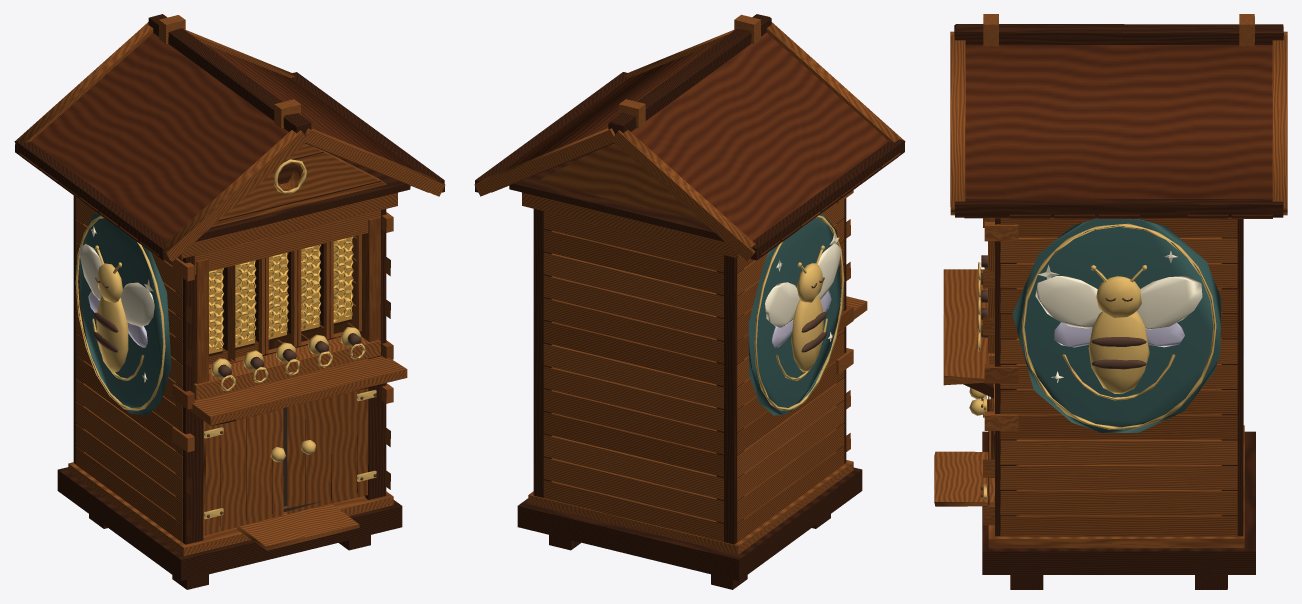
File: beehive-dreamy-far.glb
The picture shows the model from 3 angles, left to right: view 1: azimuth 30°, elevation 25°; view 2: azimuth 150°, elevation 25°; view 3: azimuth 270°, elevation 25°; orthographic projection. The views are drawn at different scales.
Visible parts, largest first — view 1: Hive_Cedro miele 3.001, Hive_Cedro tostato • scandole, Hive_Noce • bordi e incastri.001, Hive_Cedro miele 4.001, Hive_Cedro miele 2.001, Hive_Cedro miele 1.001, Hive_Smalto salvia profondo, Hive_Ottone satinato / miele, Hive_Miele luminoso, Hive_Cera ambrata, Hive_Ali • avorio perlato, Hive_Ape • cacao (+1 smaller); view 2: Hive_Cedro miele 3.001, Hive_Cedro tostato • scandole, Hive_Noce • bordi e incastri.001, Hive_Cedro miele 2.001, Hive_Cedro miele 4.001, Hive_Cedro miele 1.001, Hive_Smalto salvia profondo, Hive_Ottone satinato / miele, Hive_Ali • avorio perlato; view 3: Hive_Cedro tostato • scandole, Hive_Noce • bordi e incastri.001, Hive_Cedro miele 3.001, Hive_Smalto salvia profondo, Hive_Cedro miele 4.001, Hive_Cedro miele 1.001, Hive_Cedro miele 2.001, Hive_Ottone satinato / miele, Hive_Ali • avorio perlato, Hive_Ali • madreperla lavanda, Hive_Ape • cacao.
Boxes of the visible parts, <box> form: Hive_Cedro miele 3.001: <box>14,22,445,556</box>; Hive_Cedro tostato • scandole: <box>19,33,428,243</box>; Hive_Noce • bordi e incastri.001: <box>15,14,444,589</box>; Hive_Cedro miele 4.001: <box>75,15,393,550</box>; Hive_Cedro miele 2.001: <box>75,192,397,538</box>; Hive_Cedro miele 1.001: <box>59,182,393,542</box>; Hive_Smalto salvia profondo: <box>79,212,171,415</box>; Hive_Ottone satinato / miele: <box>75,159,376,519</box>; Hive_Miele luminoso: <box>209,236,353,350</box>; Hive_Cera ambrata: <box>209,237,352,353</box>; Hive_Ali • avorio perlato: <box>79,226,154,382</box>; Hive_Ape • cacao: <box>93,277,376,517</box>; Hive_Cedro miele 3.001: <box>474,22,905,554</box>; Hive_Cedro tostato • scandole: <box>491,32,888,256</box>; Hive_Noce • bordi e incastri.001: <box>475,14,904,589</box>; Hive_Cedro miele 2.001: <box>522,192,850,541</box>; Hive_Cedro miele 4.001: <box>543,14,853,499</box>; Hive_Cedro miele 1.001: <box>543,153,900,542</box>; Hive_Smalto salvia profondo: <box>748,213,841,415</box>; Hive_Ottone satinato / miele: <box>754,215,844,410</box>; Hive_Ali • avorio perlato: <box>765,232,841,341</box>; Hive_Cedro tostato • scandole: <box>965,45,1272,218</box>; Hive_Noce • bordi e incastri.001: <box>954,24,1283,589</box>; Hive_Cedro miele 3.001: <box>943,31,1287,548</box>; Hive_Smalto salvia profondo: <box>1012,218,1221,432</box>; Hive_Cedro miele 4.001: <box>934,14,1254,506</box>; Hive_Cedro miele 1.001: <box>964,217,1243,536</box>; Hive_Cedro miele 2.001: <box>983,217,1243,530</box>; Hive_Ottone satinato / miele: <box>969,223,1216,500</box>; Hive_Ali • avorio perlato: <box>1035,251,1202,382</box>; Hive_Ali • madreperla lavanda: <box>1054,322,1184,347</box>; Hive_Ape • cacao: <box>981,255,1146,497</box>.
Size of the model in its own units: 2.24 by 3.55 by 2.18.
14 materials, 6 textured.
